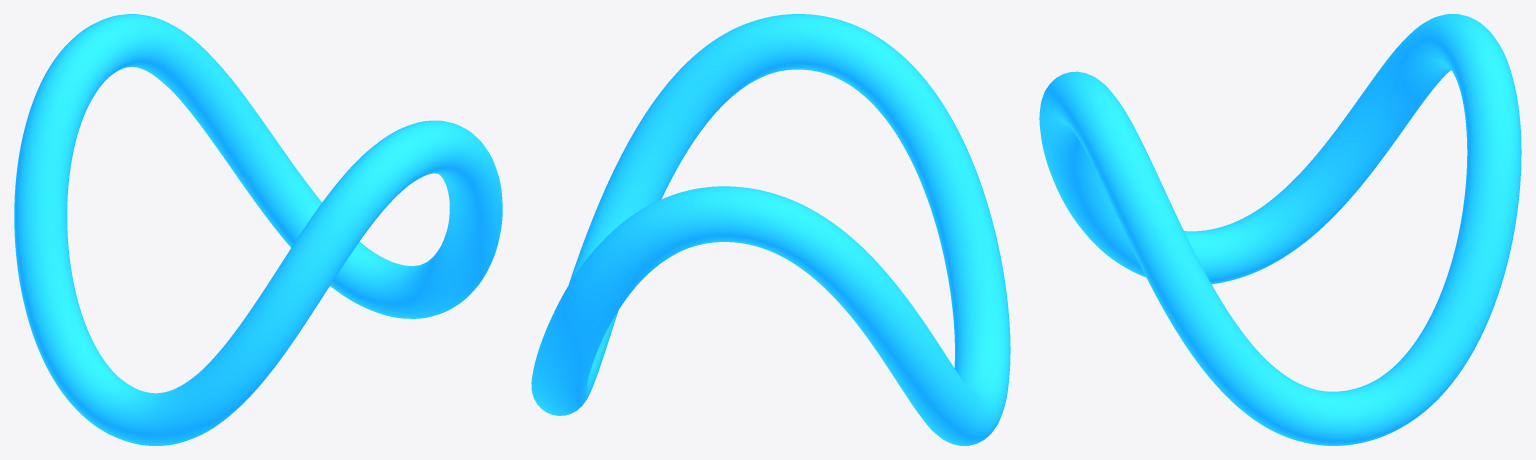
File: MetaFlower.glb
3 renders of one model, left to right at view 1: azimuth 30°, elevation 25°; view 2: azimuth 150°, elevation 25°; view 3: azimuth 270°, elevation 25°, orthographic. The views are drawn at different scales.
Parts seen in each view (by area): view 1: Object_7; view 2: Object_7; view 3: Object_7.
Boxes of the visible parts, bbox=[...] form: Object_7: bbox=[14, 14, 502, 445]; Object_7: bbox=[531, 14, 1010, 445]; Object_7: bbox=[1039, 14, 1521, 445].
Bounding box in the file's own units: 0.1304 × 0.0916 × 0.1304.
